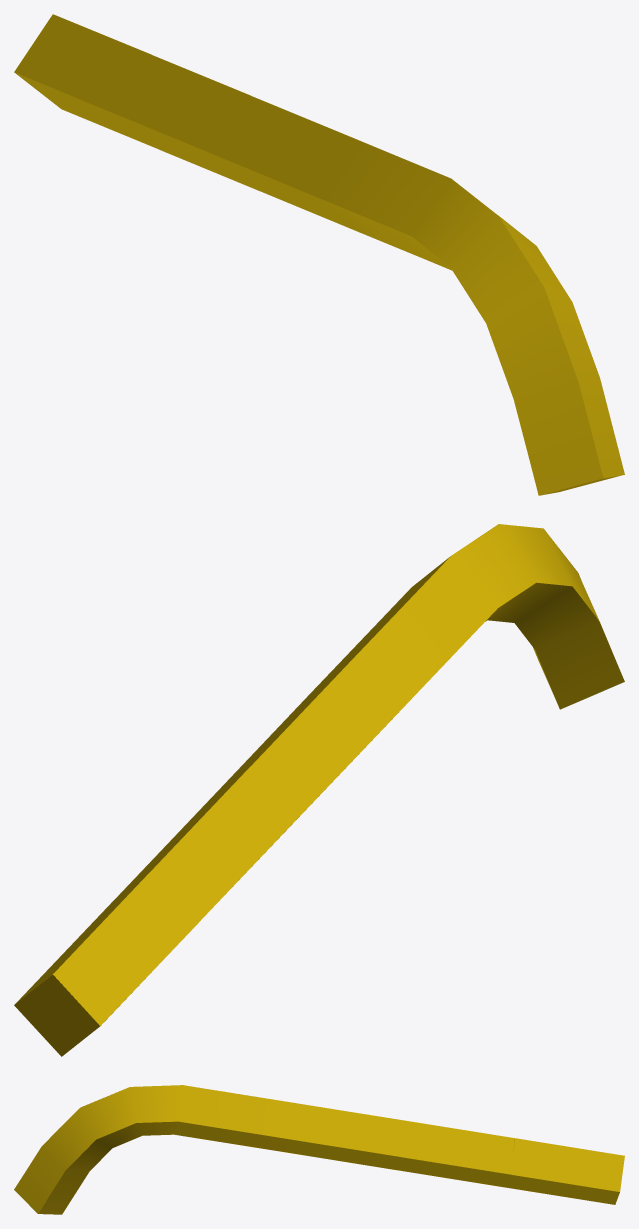
The model's file is original-6.obj.
The picture shows the model from 3 angles, top to bottom: view 1: azimuth 30°, elevation 25°; view 2: azimuth 150°, elevation 25°; view 3: azimuth 270°, elevation 25°; orthographic projection. The views are drawn at different scales.
Parts seen in each view (by area): view 1: #ID46; view 2: #ID46; view 3: #ID46.
Part boxes in pixels (x1,y1,x2,y2): #ID46: (14, 14, 624, 495); #ID46: (14, 524, 624, 1056); #ID46: (14, 1085, 624, 1214).
Bounding box in the file's own units: 0.0601 × 0.1551 × 0.6619.
